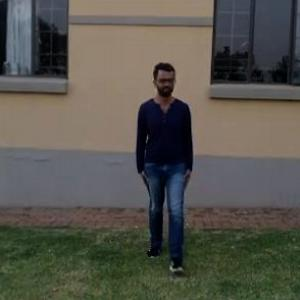follow: (136, 60, 197, 276)
